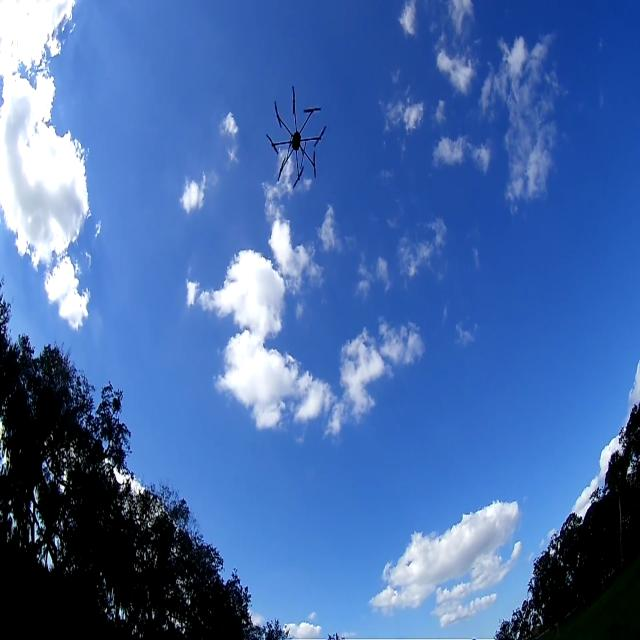drone: (267, 73, 335, 202)
